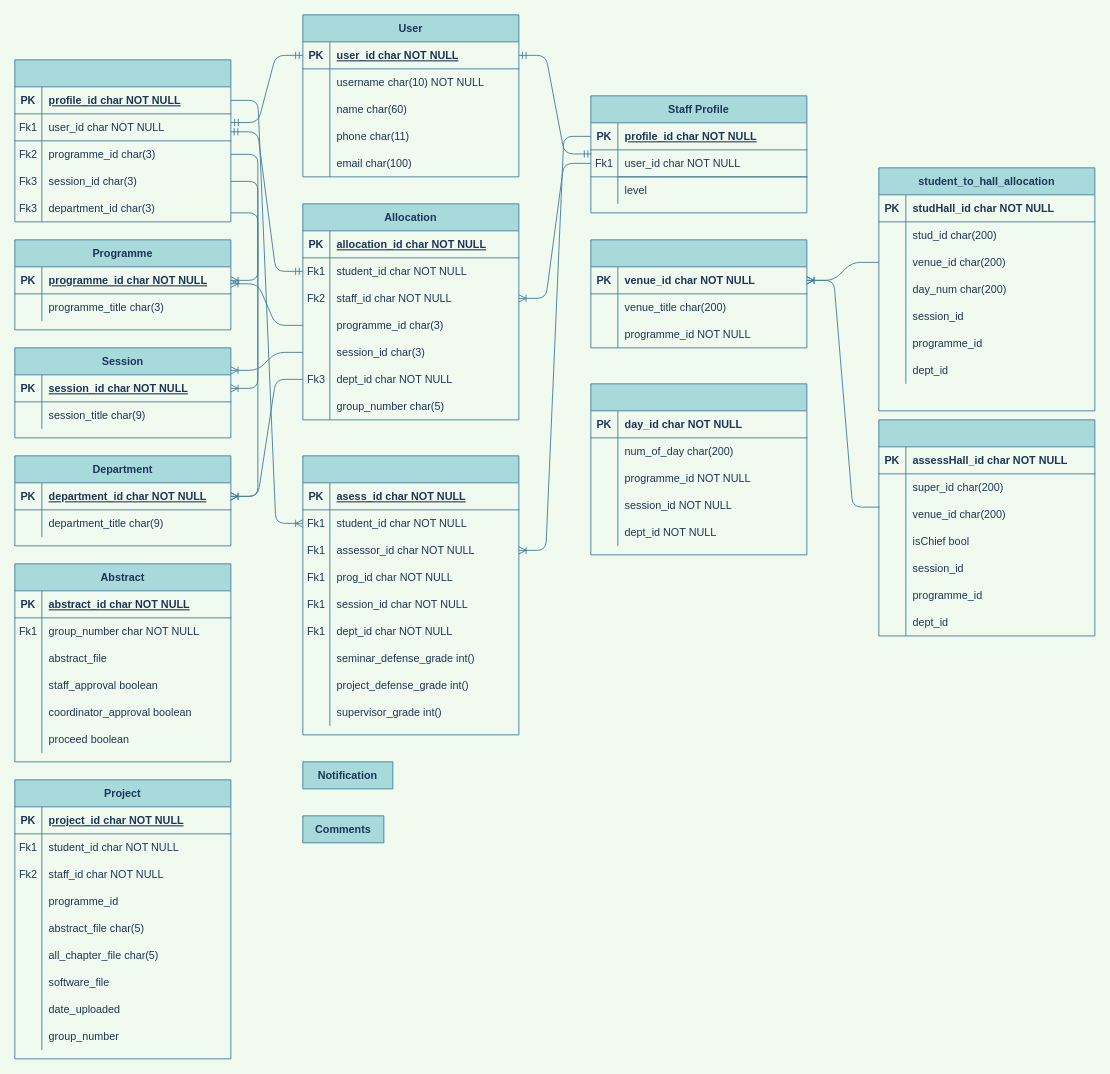
Image size: 1110x1074. Some labels were removed from this diagram. Here are the shapes that lost their labels. From the top down, the box of each, then its label:
(14, 59, 231, 222): Student Profile
(590, 239, 807, 348): Venues
(590, 383, 807, 555): DaysOfDefense
(878, 419, 1095, 636): assessor_to_hall_allocation
(302, 455, 519, 735): Assessment
